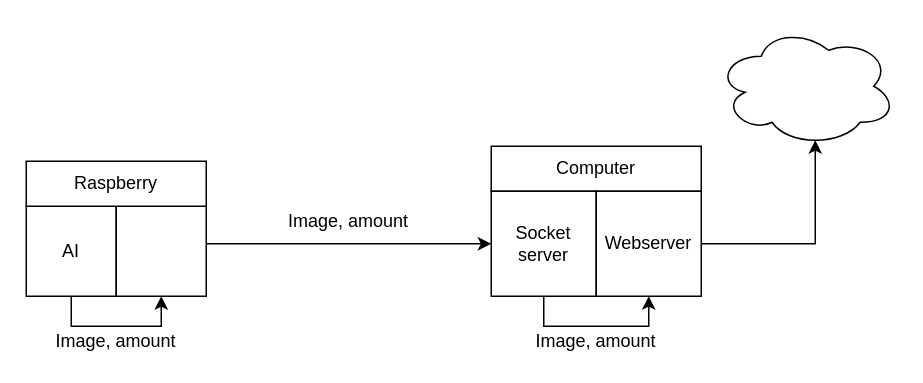
This 923x383 diagram has some shape labels left out. The centre of each missing label's shape, as x and y in pixels:
Browser: point (805, 85)
Socket client: point (160, 250)
